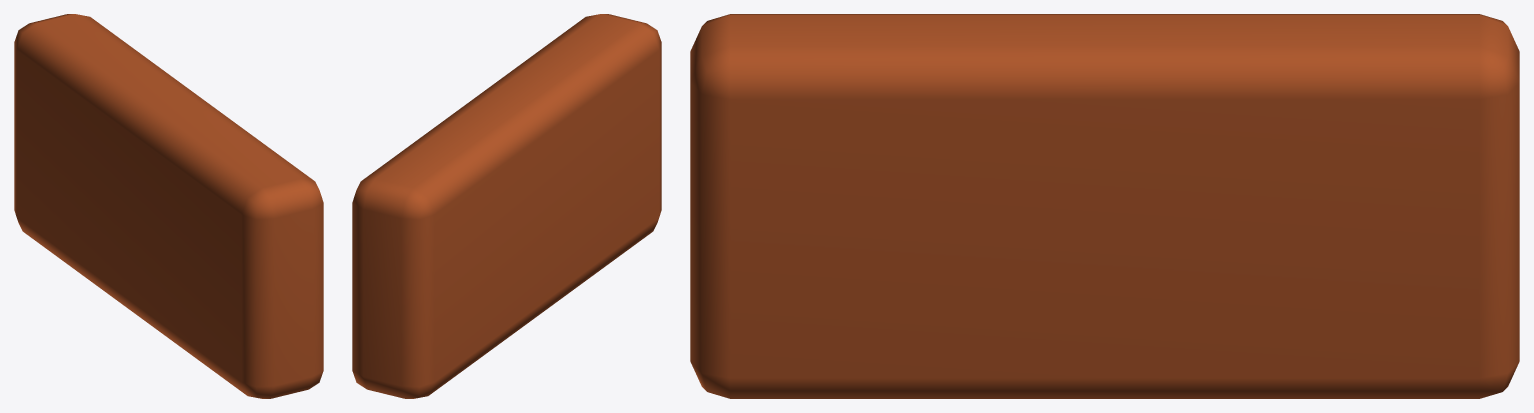
Rendered from SM_brick_02_L.glb.
3 views of the same model, side by side, from view 1: azimuth 30°, elevation 25°; view 2: azimuth 150°, elevation 25°; view 3: azimuth 270°, elevation 25° (orthographic). The views are drawn at different scales.
Parts seen in each view (by area): view 1: SM_brick_02_L; view 2: SM_brick_02_L; view 3: SM_brick_02_L.
Part boxes in pixels (<box>): SM_brick_02_L: <box>14,14,323,398</box>; SM_brick_02_L: <box>352,14,661,398</box>; SM_brick_02_L: <box>690,14,1519,398</box>.
Size of the model in its own units: 0.0761 by 0.1925 by 0.4116.
1 material, 1 textured.
